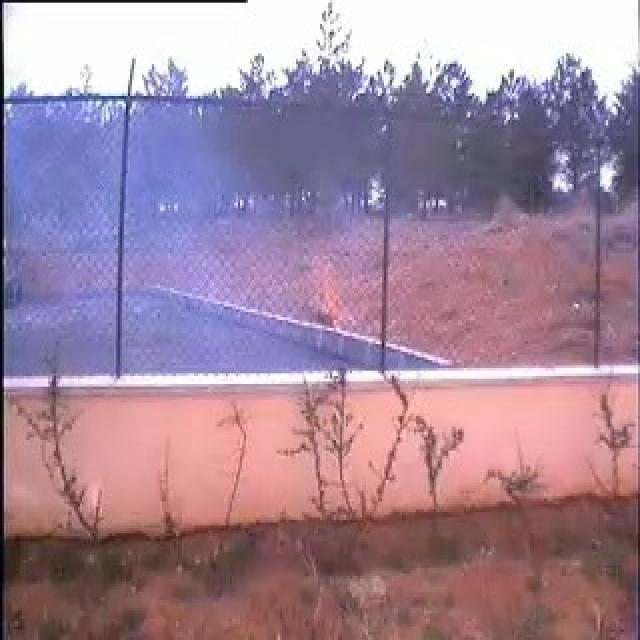smoke: (66, 140, 288, 368)
